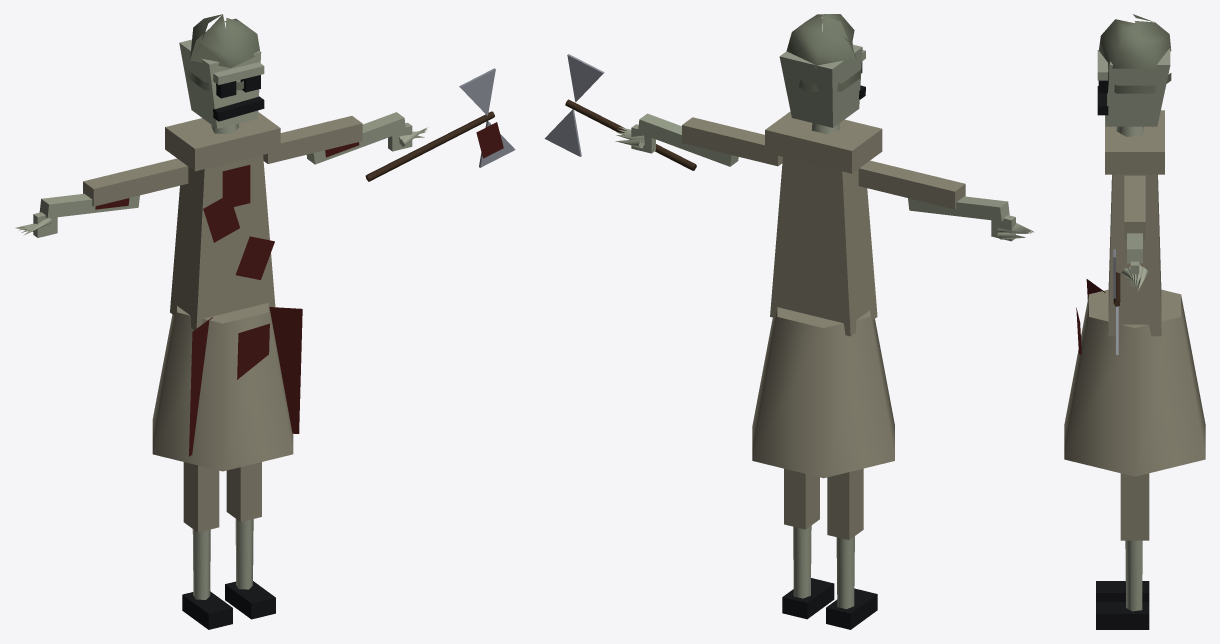
The model's file is sanitar-killer.glb.
3 renders of one model, left to right at view 1: azimuth 30°, elevation 25°; view 2: azimuth 150°, elevation 25°; view 3: azimuth 270°, elevation 25°, orthographic.
Parts seen in each view (by area): view 1: gown_skirt, gown_upper, gown_collar, sleeve_L, skull, cap_dome, blood_fold_1, sleeve_R, leg_upper_L, leg_upper_R, blood_fold_0, shoe_L (+13 smaller); view 2: gown_skirt, gown_upper, gown_collar, skull, sleeve_L, cap_dome, sleeve_R, leg_upper_L, leg_upper_R, forearm_L, forearm_R, shin_R (+6 smaller); view 3: gown_skirt, gown_upper, skull, cap_dome, gown_collar, leg_upper_R, shoe_R, sleeve_R, shin_R, shoe_L, forearm_R, cap_band (+3 smaller).
Part boxes in pixels (<box>): gown_skirt: <box>152,303,293,471</box>; gown_upper: <box>170,155,275,330</box>; gown_collar: <box>165,112,280,171</box>; sleeve_L: <box>83,158,188,206</box>; skull: <box>179,39,261,128</box>; cap_dome: <box>190,14,259,67</box>; blood_fold_1: <box>269,307,302,433</box>; sleeve_R: <box>263,116,362,163</box>; leg_upper_L: <box>183,462,219,532</box>; leg_upper_R: <box>226,462,261,521</box>; blood_fold_0: <box>189,317,212,456</box>; shoe_L: <box>182,591,232,629</box>; gown_skirt: <box>752,307,894,478</box>; gown_upper: <box>770,157,877,336</box>; gown_collar: <box>765,111,882,173</box>; skull: <box>779,44,862,127</box>; sleeve_L: <box>858,160,965,209</box>; cap_dome: <box>786,14,856,68</box>; sleeve_R: <box>682,117,782,166</box>; leg_upper_L: <box>827,468,863,539</box>; leg_upper_R: <box>784,468,819,529</box>; forearm_L: <box>908,196,1009,221</box>; forearm_R: <box>637,113,738,166</box>; shin_R: <box>793,525,811,598</box>; gown_skirt: <box>1064,289,1205,476</box>; gown_upper: <box>1108,174,1161,336</box>; skull: <box>1105,48,1170,126</box>; cap_dome: <box>1098,14,1171,68</box>; gown_collar: <box>1105,110,1164,174</box>; leg_upper_R: <box>1120,473,1149,540</box>; shoe_R: <box>1096,602,1149,629</box>; sleeve_R: <box>1124,175,1145,239</box>; shin_R: <box>1125,540,1142,611</box>; shoe_L: <box>1096,581,1149,601</box>; forearm_R: <box>1127,233,1142,263</box>; cap_band: <box>1114,73,1171,93</box>.
Size of the model in its own units: 3.19 by 3.71 by 0.7967.
